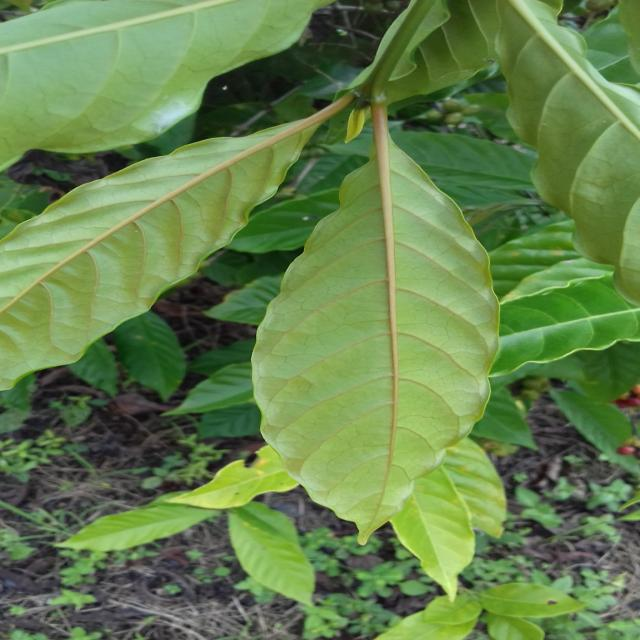Sanas: (249, 111, 499, 543)
